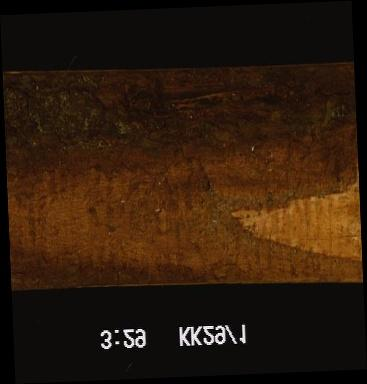wave: (6, 66, 358, 283)
